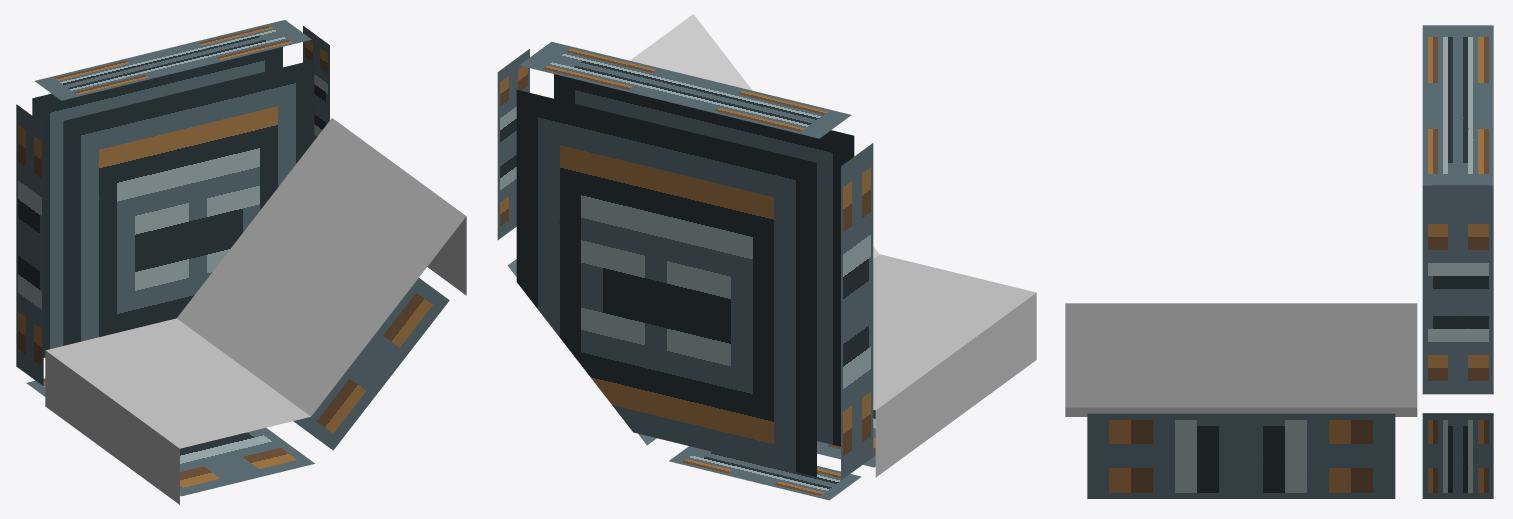
File: casing_d5_front_x1_y-2.obj
3 views of the same model, side by side, from view 1: azimuth 30°, elevation 25°; view 2: azimuth 150°, elevation 25°; view 3: azimuth 270°, elevation 25° (orthographic). The views are drawn at different scales.
Parts seen in each view (by area): view 1: d5_front_x1_y-2; view 2: d5_front_x1_y-2; view 3: d5_front_x1_y-2.
Part boxes in pixels (bbox=[...]): d5_front_x1_y-2: bbox=[16, 20, 466, 504]; d5_front_x1_y-2: bbox=[497, 14, 1036, 500]; d5_front_x1_y-2: bbox=[1065, 25, 1493, 498].
Bounding box in the file's own units: 1 × 1 × 1.
